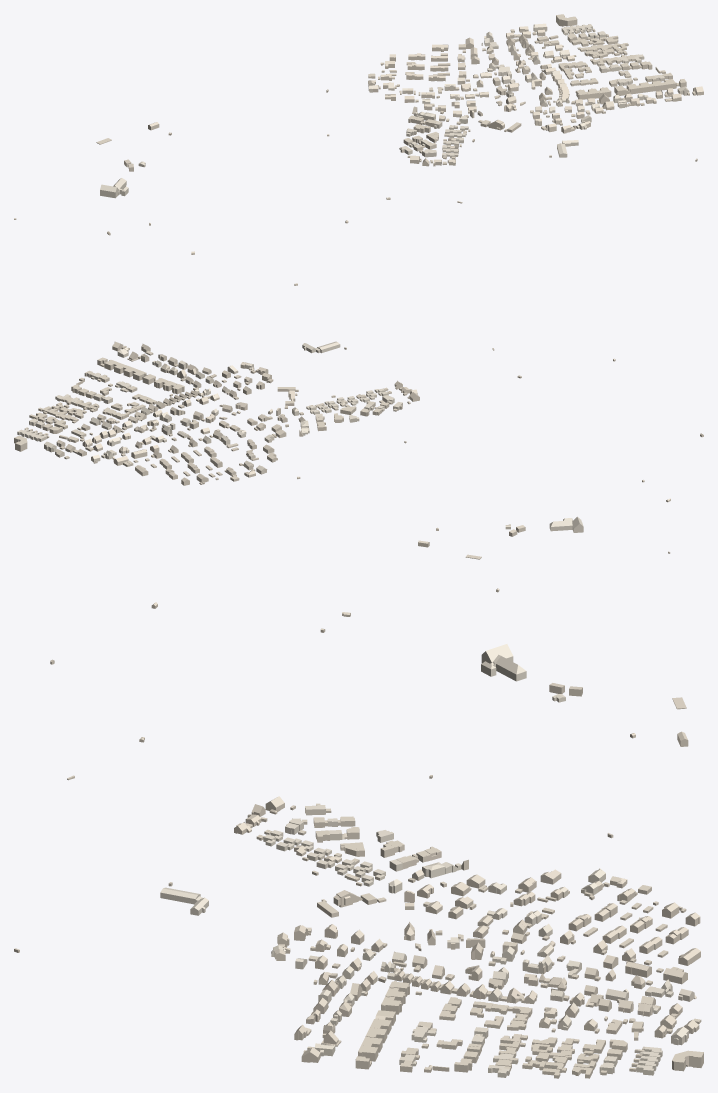
3 views of the same model, one above another, from view 1: azimuth 30°, elevation 25°; view 2: azimuth 150°, elevation 25°; view 3: azimuth 270°, elevation 25° (orthographic). The views are drawn at different scales.
Size of the model in its own units: 1196 by 95.26 by 699.
